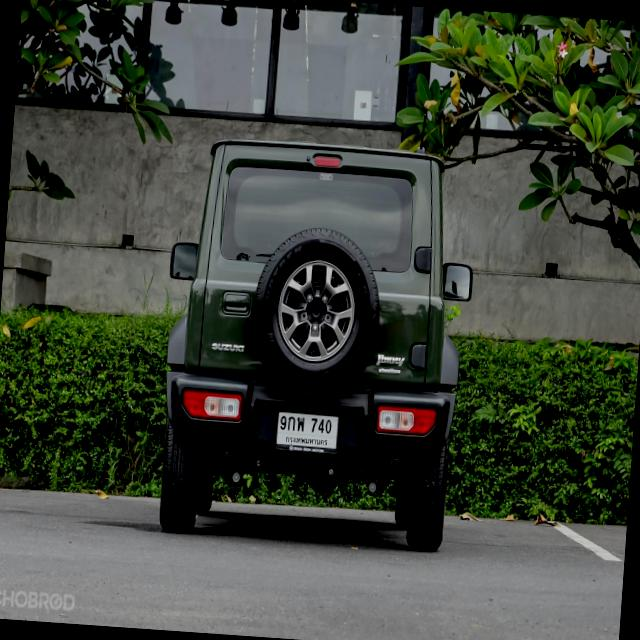license_plate: (272, 406, 340, 458)
